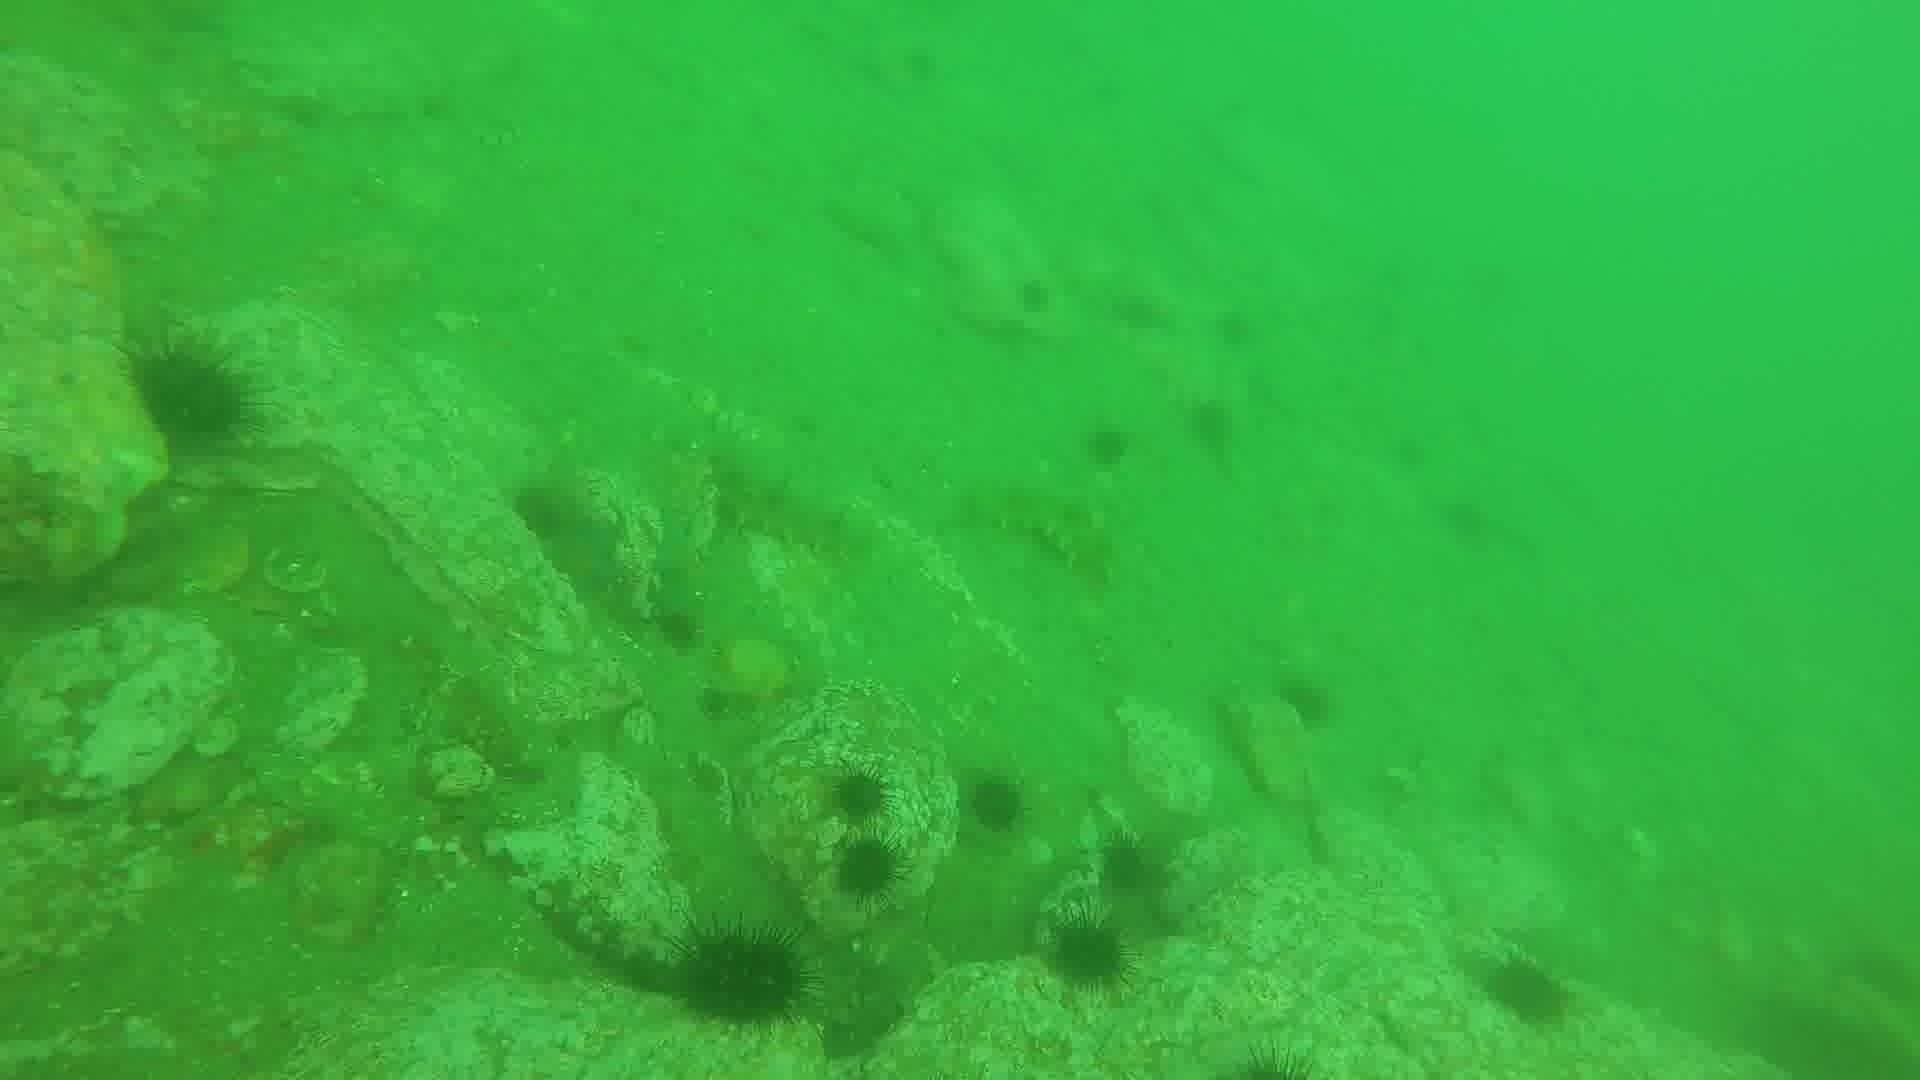echinus: (123, 338, 258, 458), (670, 920, 814, 1033), (1040, 911, 1137, 997), (1478, 952, 1576, 1033), (1197, 1033, 1342, 1077), (829, 832, 909, 905), (506, 477, 582, 547), (960, 770, 1031, 837), (822, 764, 895, 828), (1092, 832, 1160, 899), (1273, 670, 1338, 735), (1183, 396, 1240, 458), (1079, 419, 1135, 473), (651, 603, 705, 655), (1010, 274, 1058, 319)
holothurian: (702, 440, 872, 560), (957, 475, 1120, 585)
starfish: (539, 512, 626, 604)
